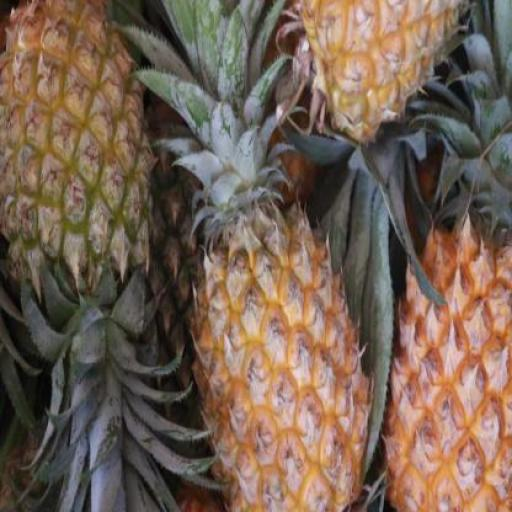------------------------------: (0, 0, 154, 276)
Pineapple - v8 v1: (182, 194, 360, 512), (384, 209, 512, 511)
